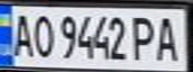2: (106, 11, 130, 61)
4: (90, 11, 112, 61), (75, 11, 93, 60)
9: (54, 11, 78, 60)
A: (151, 12, 184, 63), (6, 10, 36, 58)
O: (30, 10, 57, 58)
P: (127, 11, 160, 62)
